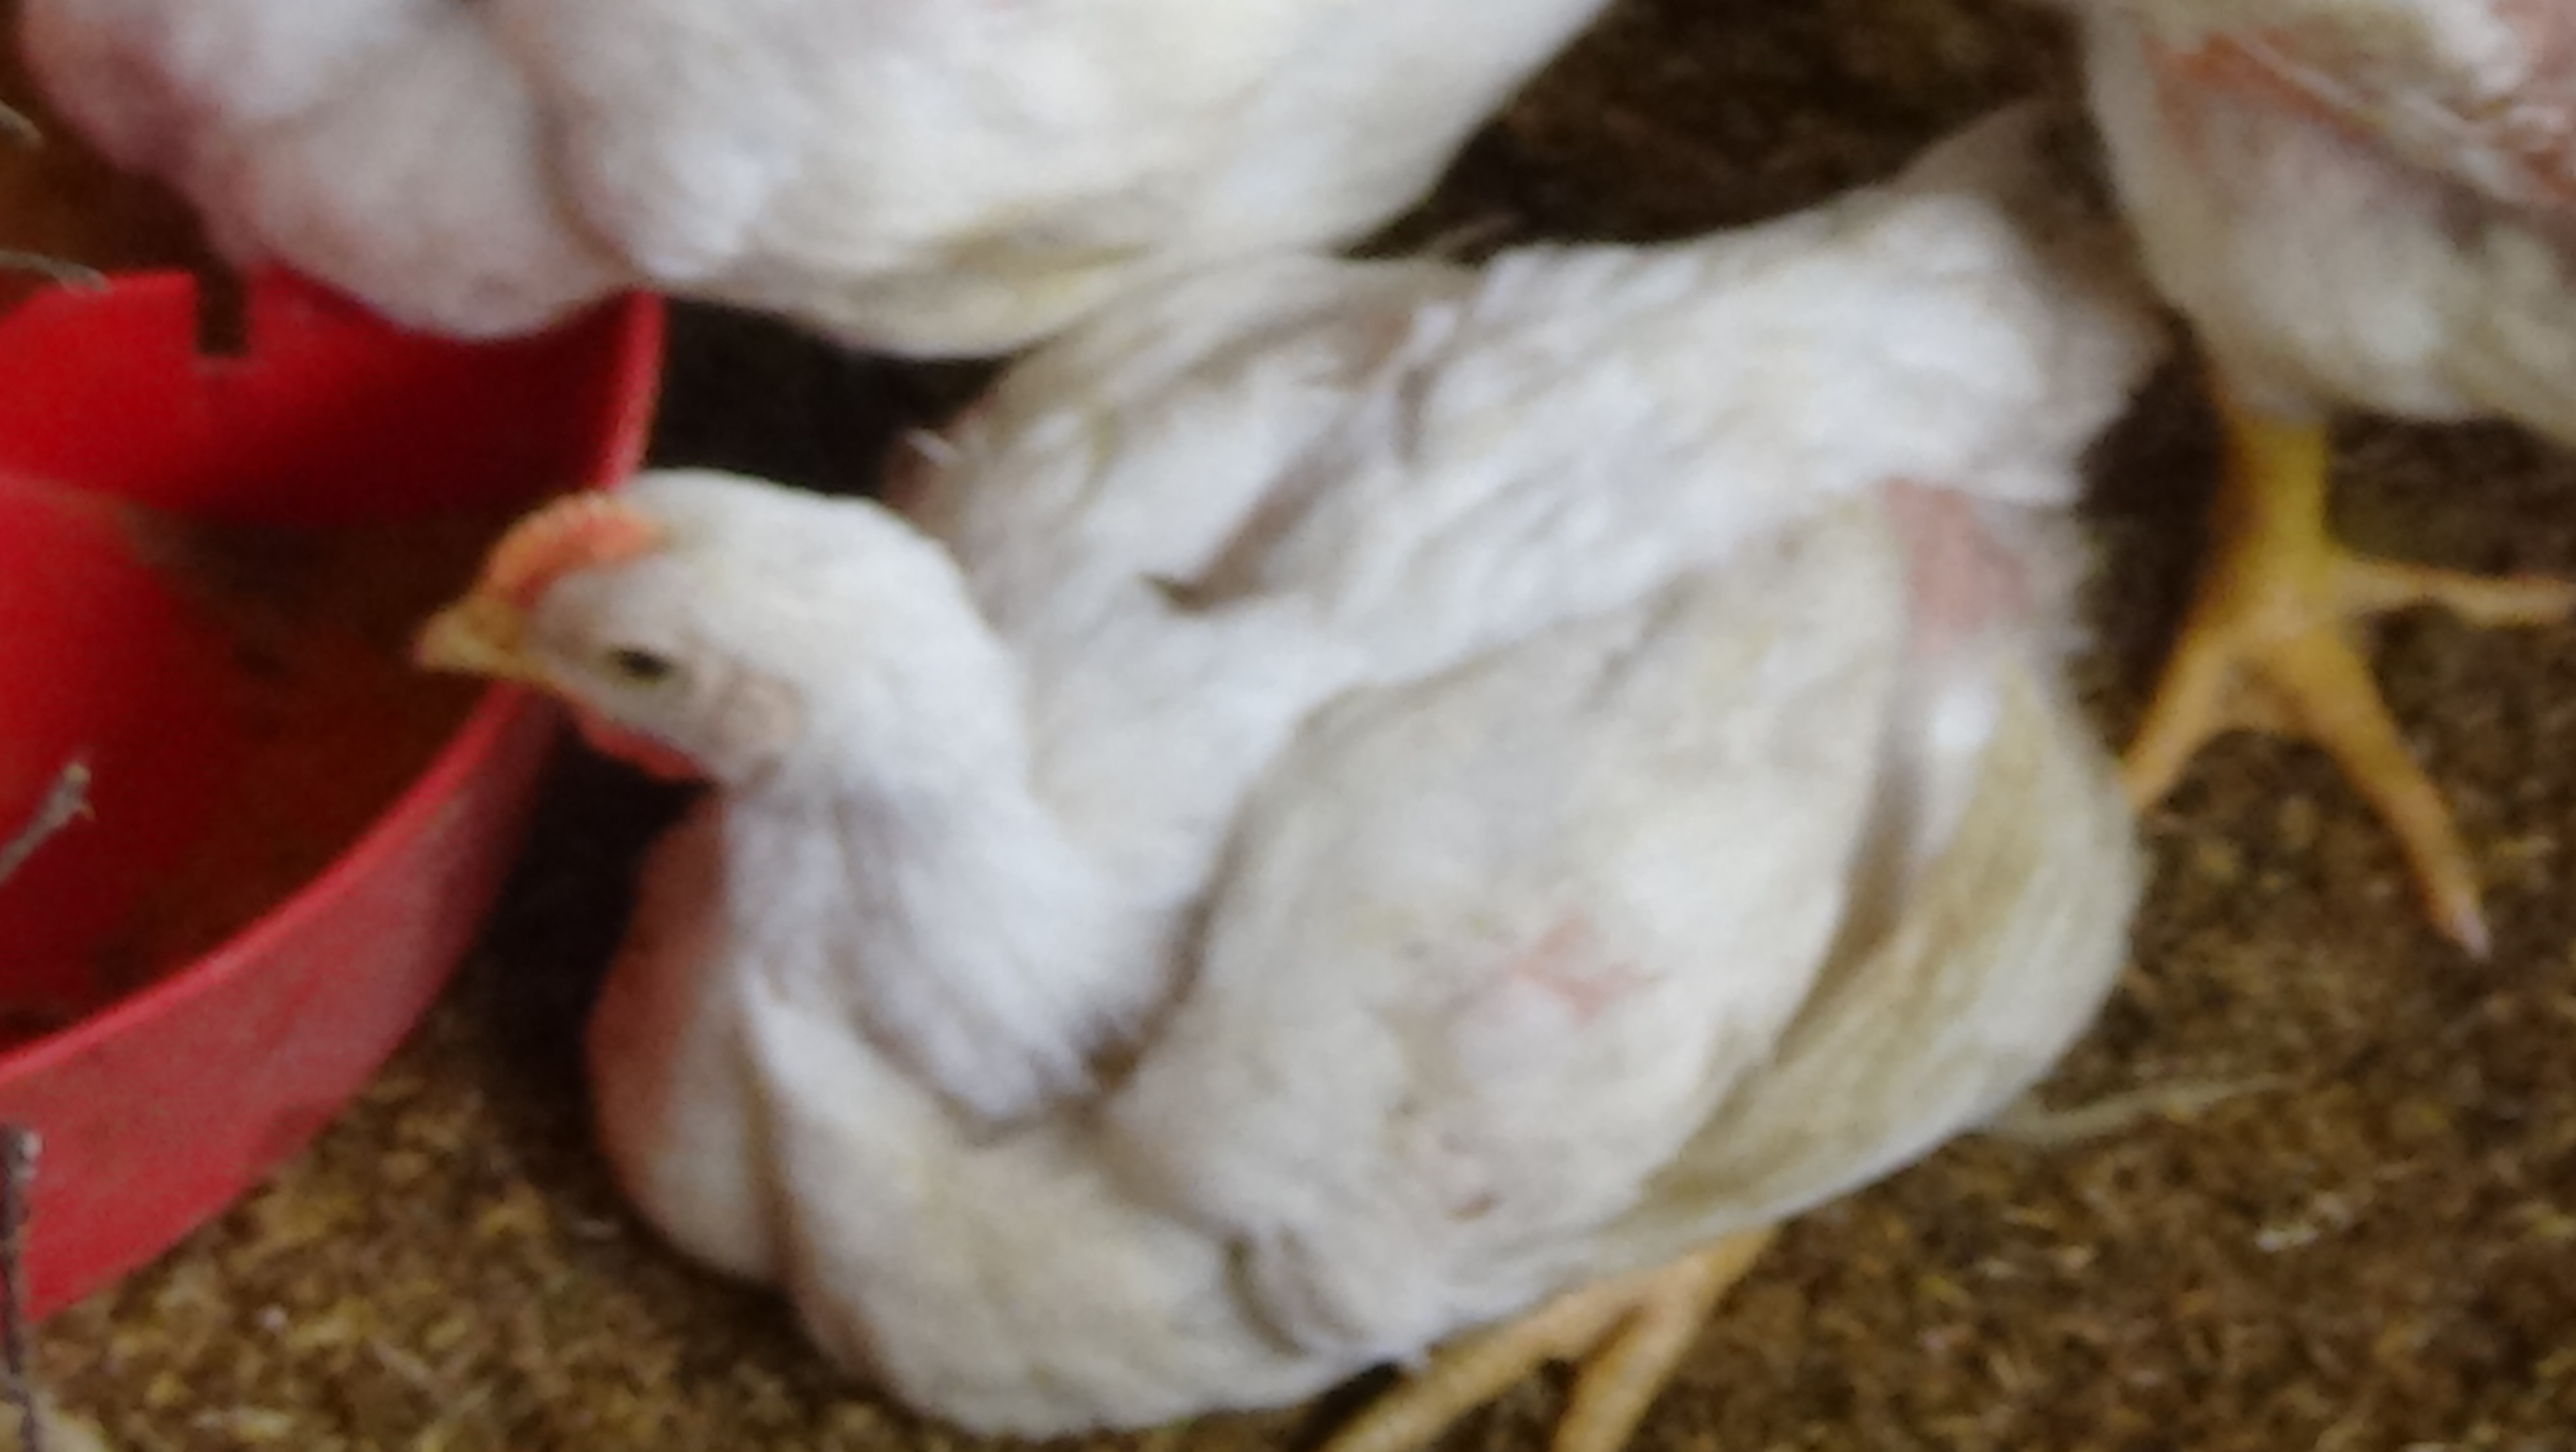Pollos: (375, 90, 2197, 1452)
